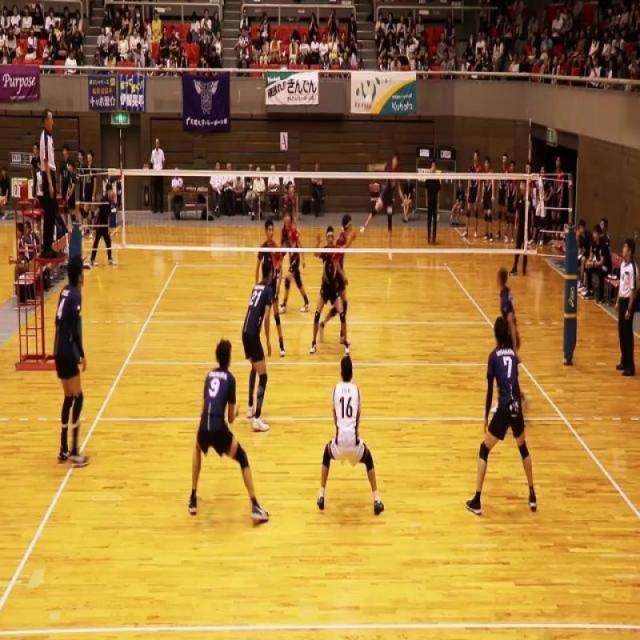volleyball: (363, 94, 372, 111)
